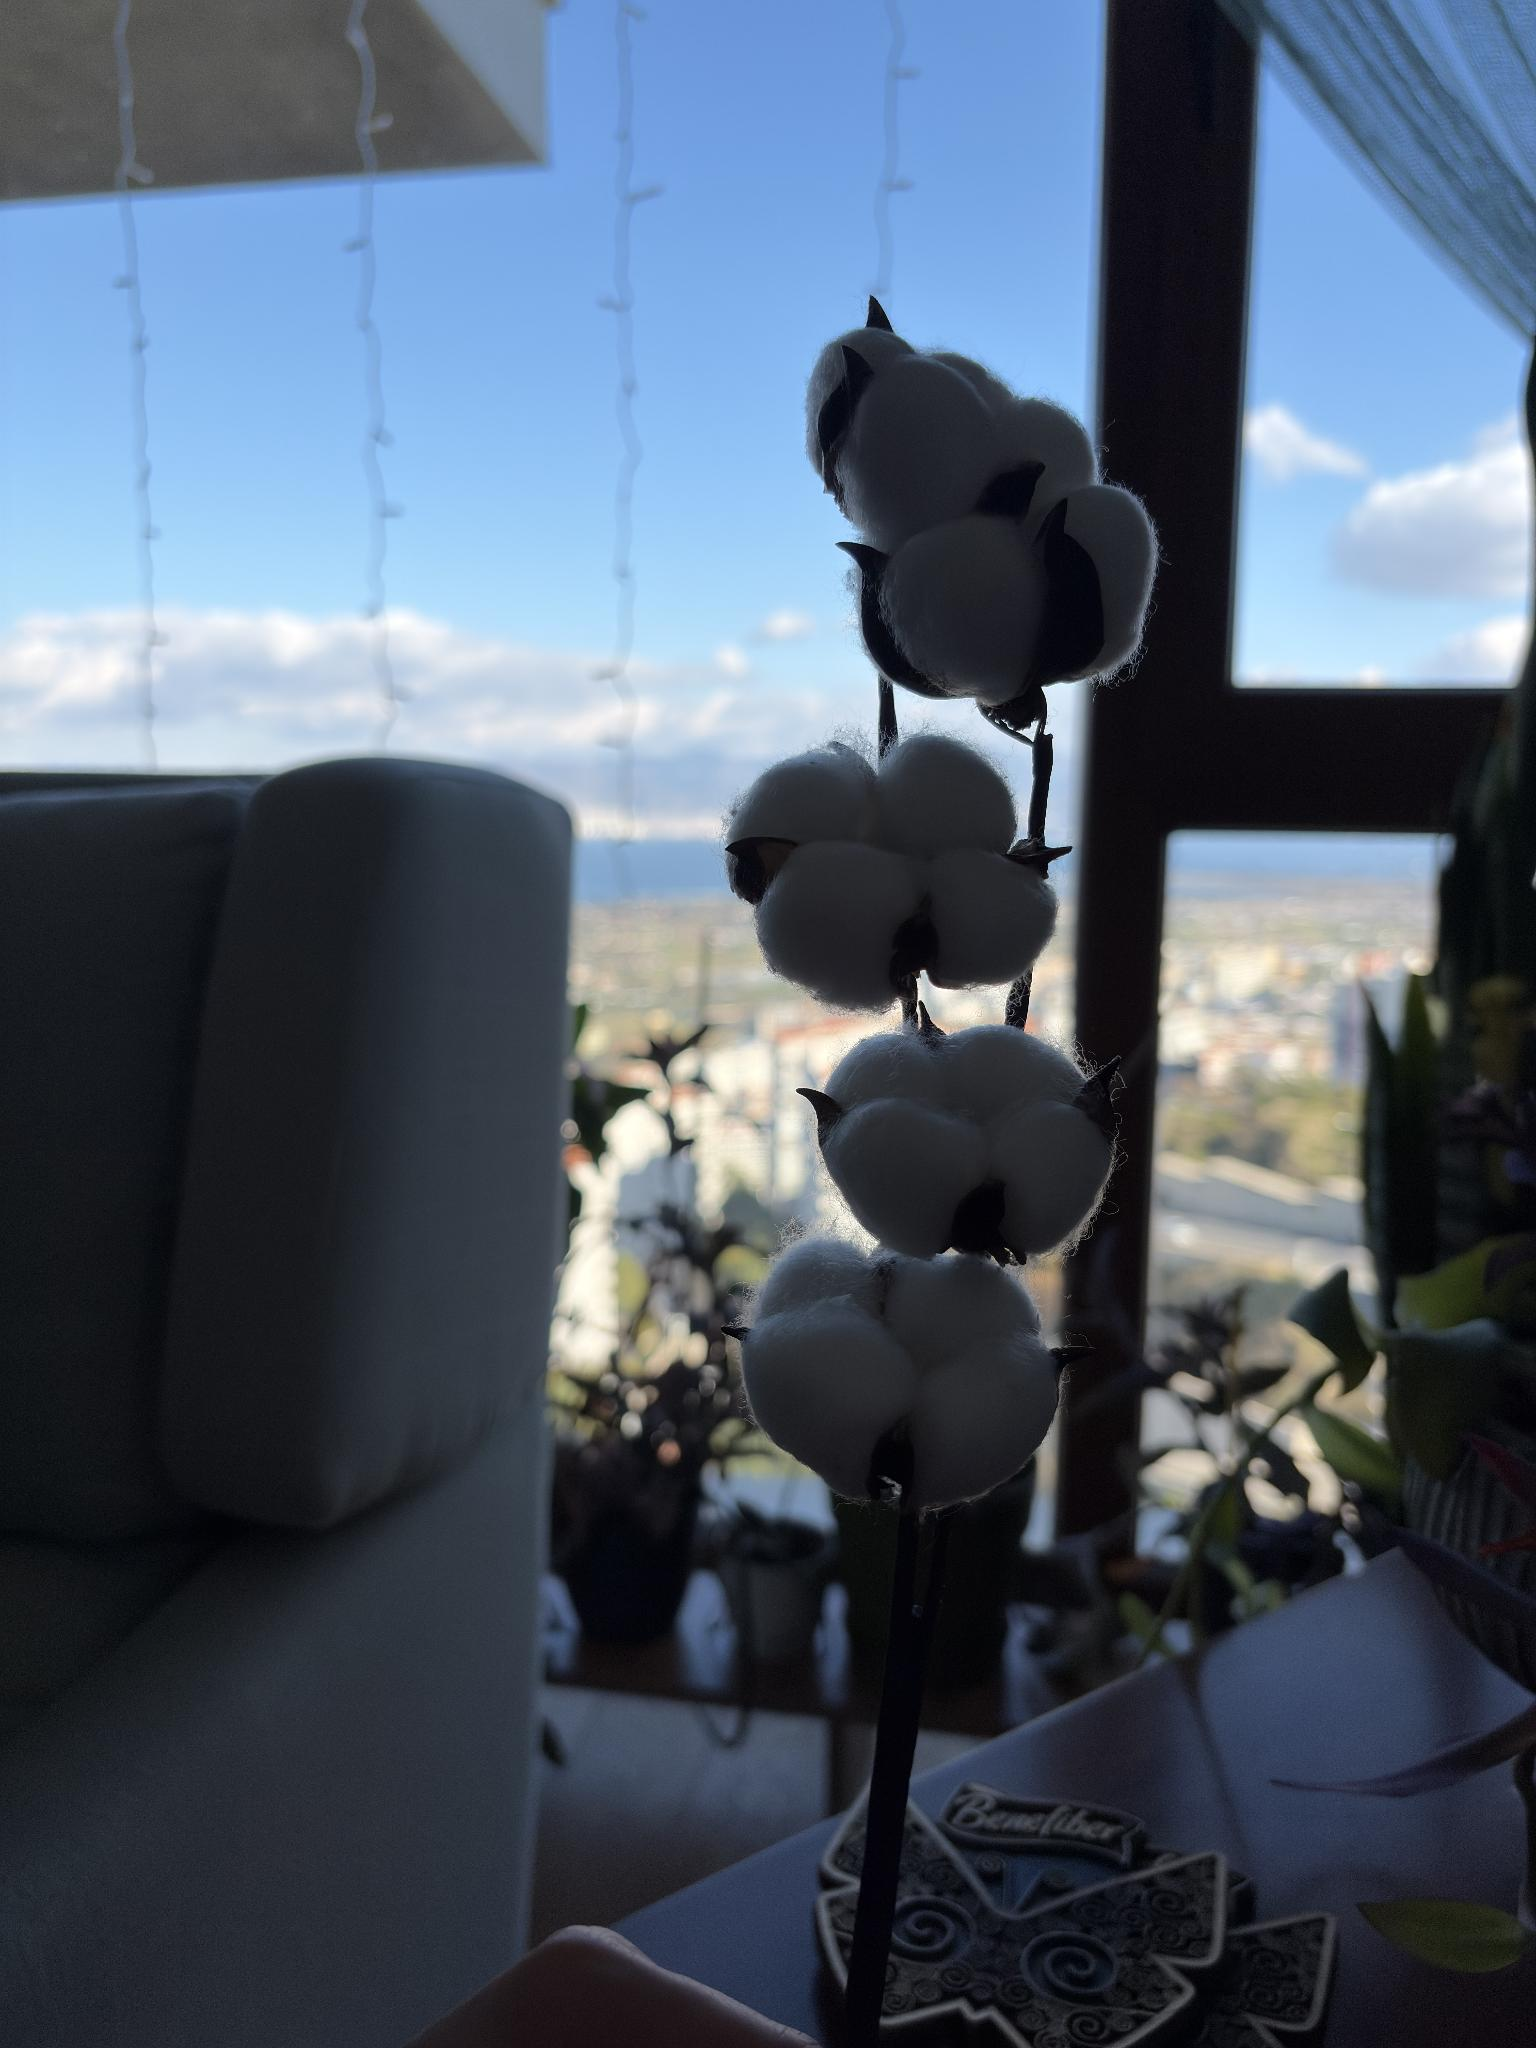cotton_boll: (742, 1293, 918, 1498), (834, 352, 1004, 555), (881, 514, 1046, 703), (755, 839, 926, 1009), (931, 352, 1096, 516), (907, 1335, 1057, 1508), (823, 1098, 983, 1256), (805, 324, 915, 505), (1055, 484, 1157, 677), (987, 1103, 1110, 1256), (883, 1255, 1039, 1371), (928, 848, 1055, 989), (876, 734, 1016, 858), (724, 743, 873, 848), (937, 1026, 1086, 1121), (753, 1237, 878, 1330), (823, 1029, 944, 1111)
cotton_boll-cluster: (797, 279, 1175, 713), (720, 721, 1070, 1013), (741, 1227, 1065, 1513), (803, 1014, 1141, 1256)
